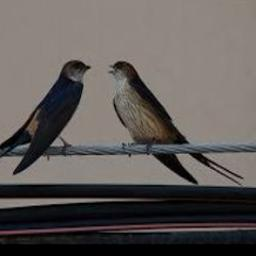Swallow: (108, 62, 245, 184), (0, 59, 92, 182)
